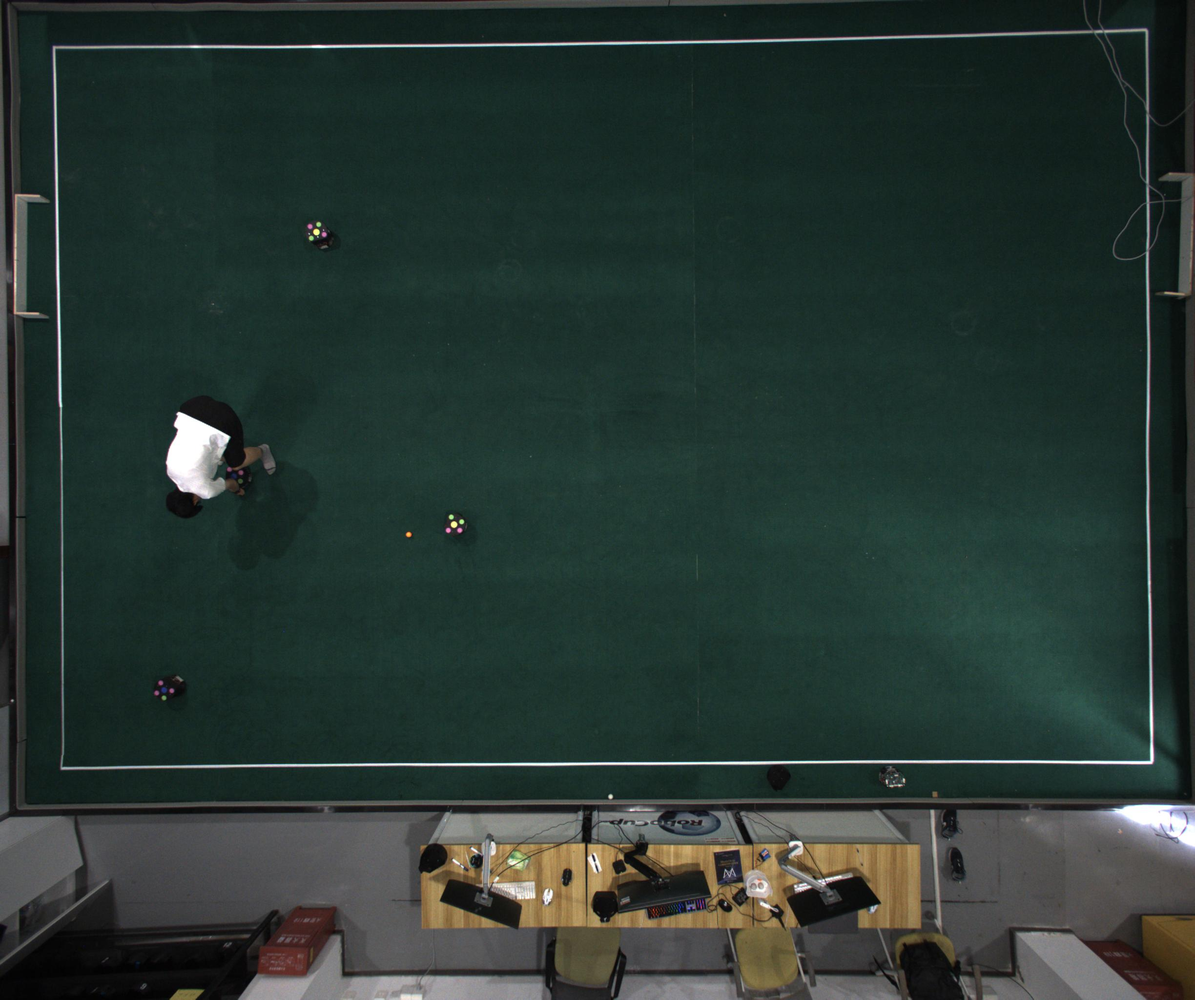ball: (406, 532, 412, 538)
blue_bot: (152, 679, 178, 702)
yellow_bot: (305, 220, 329, 242), (444, 513, 465, 535)
